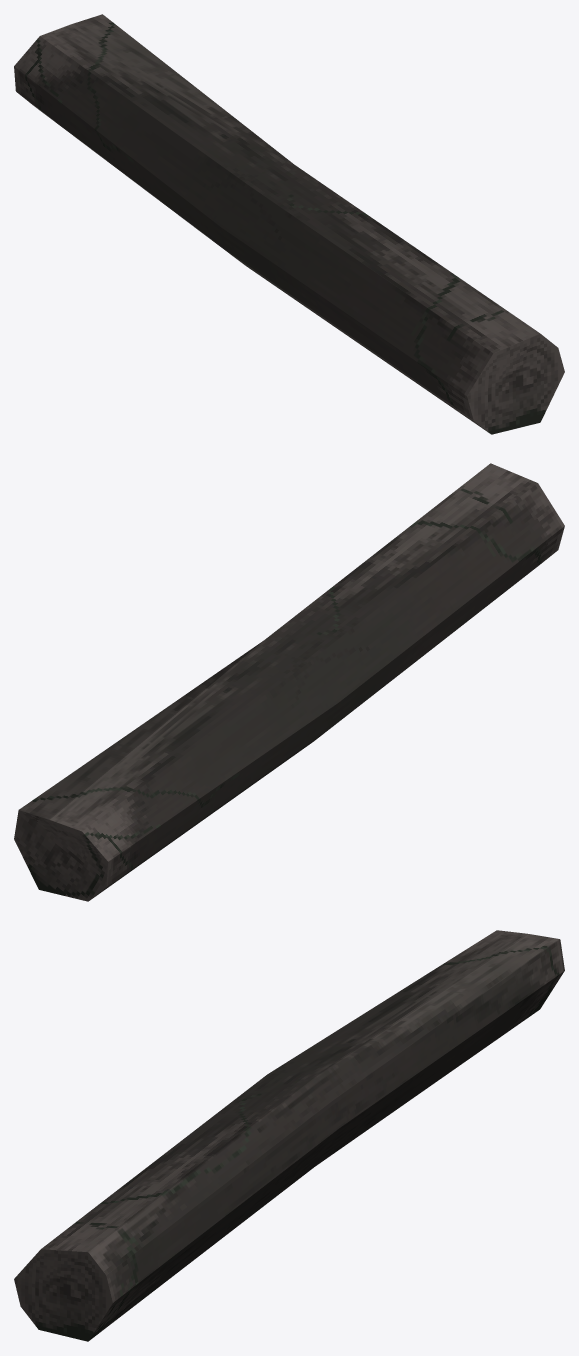
The model's file is treelog3.fbx.
3 renders of one model, top to bottom at view 1: azimuth 30°, elevation 25°; view 2: azimuth 150°, elevation 25°; view 3: azimuth 330°, elevation 25°, orthographic.
Visible parts, largest first — view 1: treelog3; view 2: treelog3; view 3: treelog3.
Part boxes in pixels (x1,y1,x2,y2): treelog3: (14, 14, 564, 434); treelog3: (14, 463, 564, 901); treelog3: (14, 930, 564, 1341).
Bounding box in the file's own units: 1.1 × 0.8895 × 8.01.
